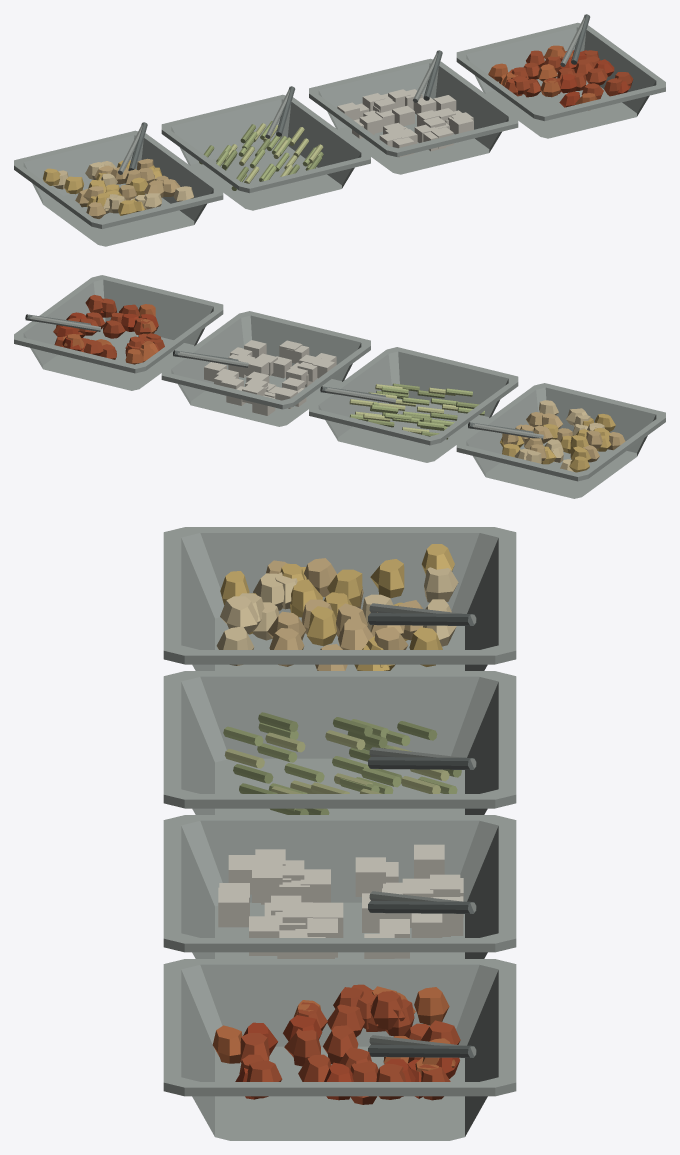
Rendered from hanshin-selfbar.glb.
The picture shows the model from 3 angles, top to bottom: view 1: azimuth 30°, elevation 25°; view 2: azimuth 150°, elevation 25°; view 3: azimuth 270°, elevation 25°; orthographic projection. The views are drawn at different scales.
Parts seen in each view (by area): view 1: Surface; view 2: Surface; view 3: Surface.
Part boxes in pixels (bbox=[...]): Surface: bbox=[14, 14, 665, 246]; Surface: bbox=[14, 275, 665, 498]; Surface: bbox=[163, 527, 516, 1140].
Bounding box in the file's own units: 1.65 × 0.1447 × 0.44.
